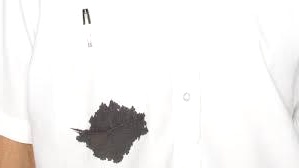ink: (75, 103, 145, 163)
